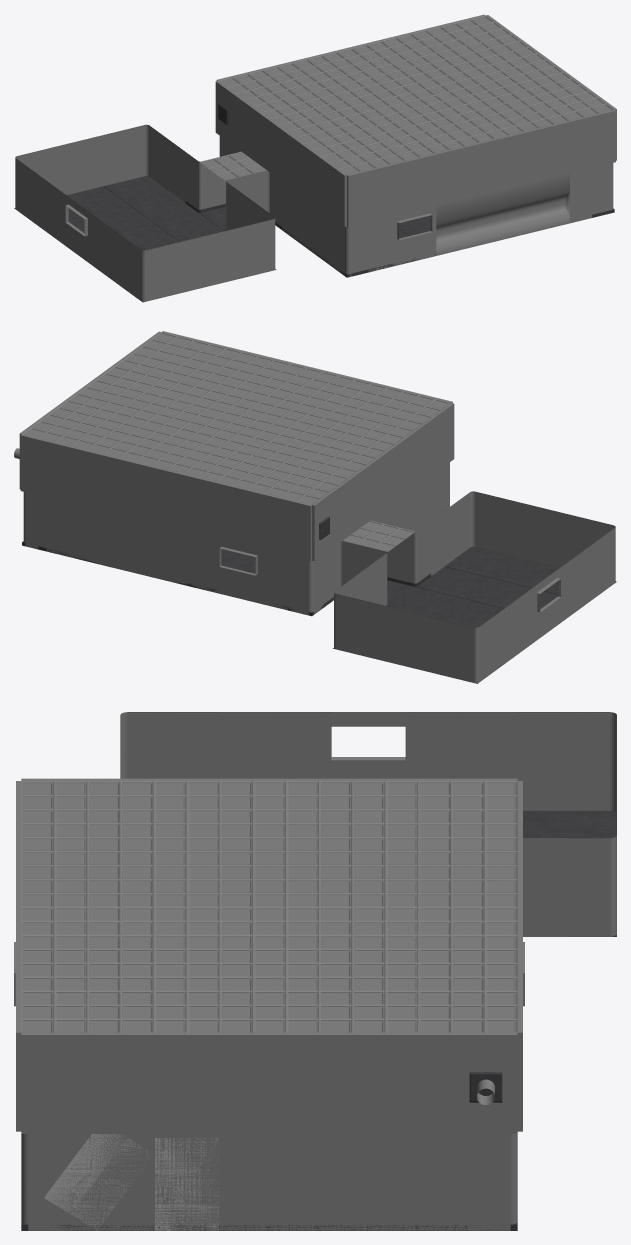
Rendered from modular-demo.gltf.
3 renders of one model, top to bottom at view 1: azimuth 30°, elevation 25°; view 2: azimuth 150°, elevation 25°; view 3: azimuth 270°, elevation 25°, orthographic. The views are drawn at different scales.
Visible parts, largest first — view 1: Plane.035, Cube.063, Cube.067, Cube.062, Cube.064, Cube.065, Cube.066, Plane.083, Plane.082, Plane.075, Plane.034, Plane.081 (+66 smaller); view 2: Cube.043, Cube.047, Cube.048, Cube.044, Cube.046, Cube.045, Plane.083, Plane.082, Plane.042, Plane.063, Plane.090, Plane.080 (+68 smaller); view 3: Cube.072, Cube.071, Cube.073, Cube.076, Plane.045, Plane.067, Plane.068, Cube.077, Plane.078, Plane.079, Plane.075, Plane.080 (+45 smaller).
Part boxes in pixels (<box>): Plane.035: <box>436,173,569,255</box>; Cube.063: <box>525,120,571,183</box>; Cube.067: <box>347,164,392,227</box>; Cube.062: <box>570,110,615,172</box>; Cube.064: <box>481,131,526,194</box>; Cube.065: <box>436,142,481,205</box>; Cube.066: <box>392,153,437,216</box>; Plane.083: <box>58,135,103,195</box>; Plane.082: <box>187,229,231,291</box>; Plane.075: <box>125,124,160,184</box>; Plane.034: <box>391,206,436,266</box>; Plane.081: <box>130,242,164,301</box>; Cube.043: <box>262,493,311,561</box>; Cube.047: <box>69,446,118,514</box>; Cube.048: <box>20,434,69,502</box>; Cube.044: <box>214,481,263,549</box>; Cube.046: <box>117,458,166,526</box>; Cube.045: <box>165,469,214,537</box>; Plane.083: <box>380,605,428,671</box>; Plane.082: <box>520,502,568,567</box>; Plane.042: <box>118,515,166,580</box>; Plane.063: <box>70,503,118,568</box>; Plane.090: <box>167,527,215,592</box>; Plane.080: <box>453,618,491,683</box>; Cube.072: <box>120,1032,219,1133</box>; Cube.071: <box>21,1032,120,1133</box>; Cube.073: <box>219,1032,318,1133</box>; Cube.076: <box>319,1032,418,1133</box>; Plane.045: <box>319,1134,418,1230</box>; Plane.067: <box>219,1134,318,1230</box>; Plane.068: <box>120,1134,219,1230</box>; Cube.077: <box>418,1032,517,1133</box>; Plane.078: <box>219,712,318,778</box>; Plane.079: <box>418,712,517,778</box>; Plane.075: <box>567,835,616,936</box>; Plane.080: <box>567,712,616,813</box>.
Size of the model in its own units: 20.74 by 4.4 by 12.14.
5 materials, 2 textured.
